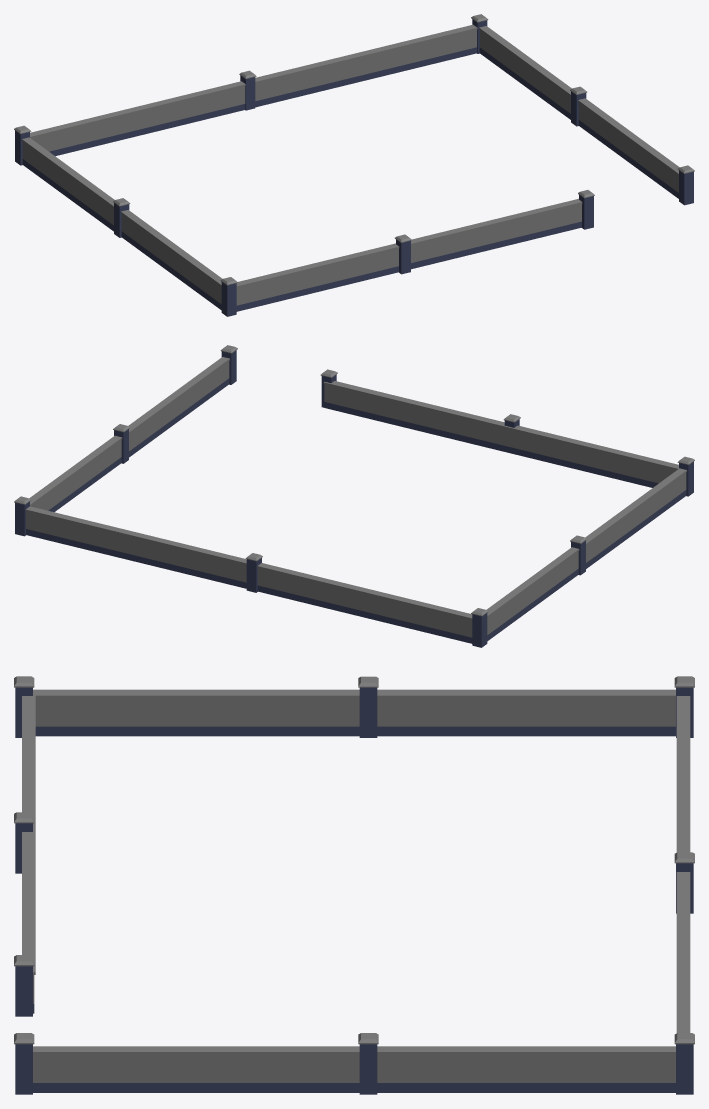
Rendered from SM_walls_policestation_template.fbx.
3 renders of one model, top to bottom at view 1: azimuth 30°, elevation 25°; view 2: azimuth 150°, elevation 25°; view 3: azimuth 270°, elevation 25°, orthographic. The views are drawn at different scales.
Parts seen in each view (by area): view 1: Box276; view 2: Box276; view 3: Box276.
Part boxes in pixels (x1,y1,x2,y2): Box276: [14, 14, 694, 316]; Box276: [14, 345, 694, 647]; Box276: [14, 676, 694, 1094].
Size of the model in its own units: 1354 by 94.53 by 1067.
